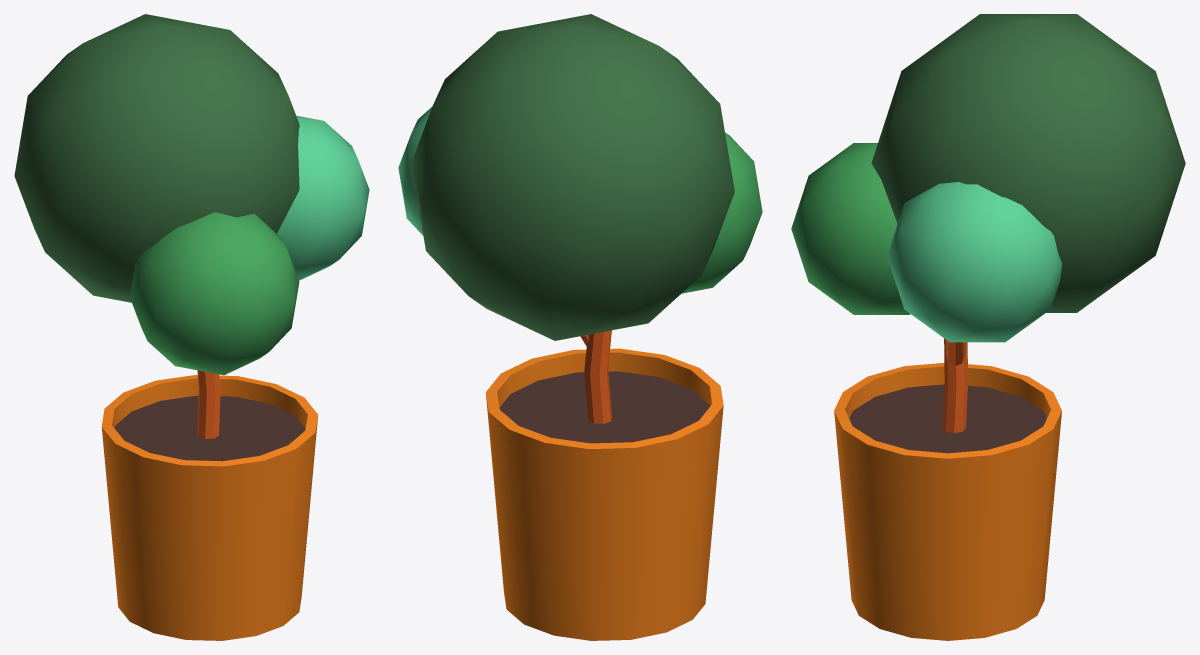
The model's file is Prop_Homeplant_11.fbx.
3 renders of one model, left to right at view 1: azimuth 30°, elevation 25°; view 2: azimuth 150°, elevation 25°; view 3: azimuth 270°, elevation 25°, orthographic. The views are drawn at different scales.
Parts seen in each view (by area): view 1: Prop_Homeplant_11; view 2: Prop_Homeplant_11; view 3: Prop_Homeplant_11.
Boxes of the visible parts, box(x1,y1,x2,y2) form: Prop_Homeplant_11: box(14, 14, 369, 640); Prop_Homeplant_11: box(398, 14, 762, 640); Prop_Homeplant_11: box(791, 14, 1185, 640).
Size of the model in its own units: 32.55 by 58.18 by 36.22.
